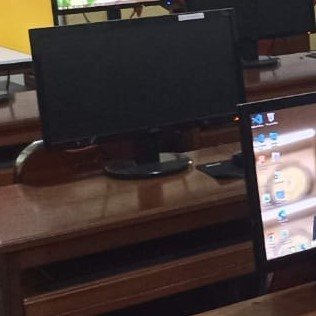monitor: (28, 8, 246, 150), (236, 91, 315, 275), (184, 0, 316, 41)
